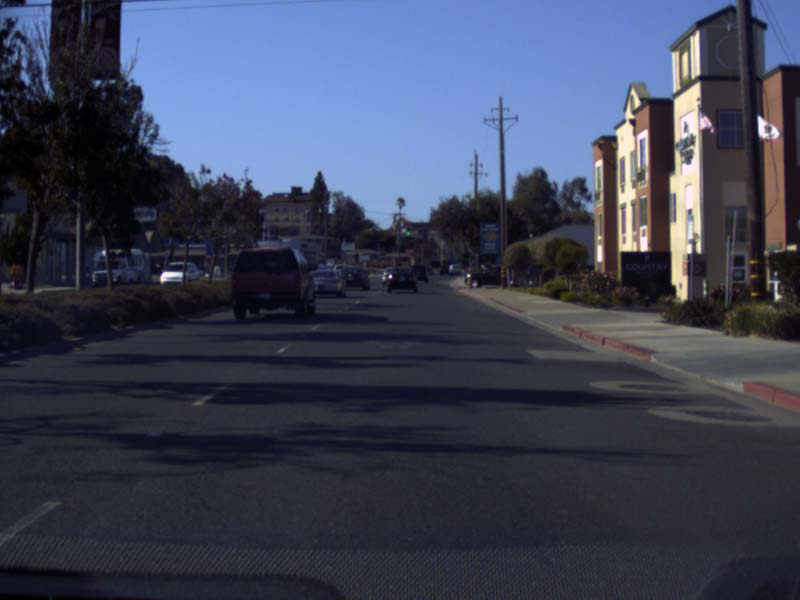Green: (406, 226, 410, 235)
